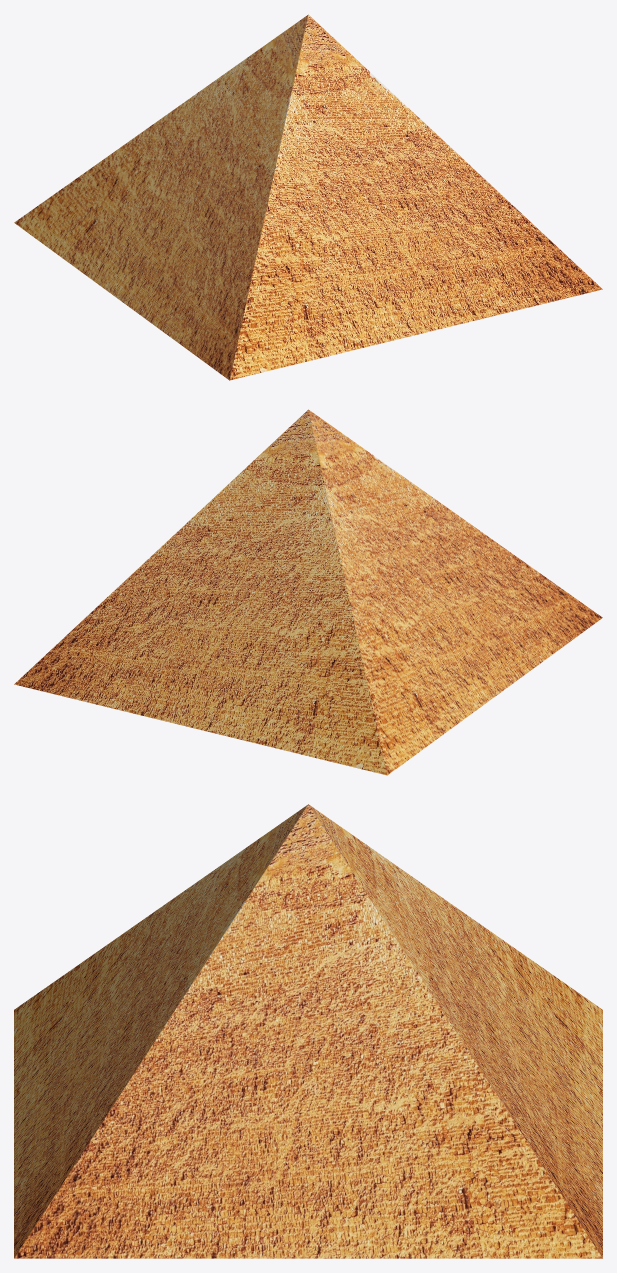
3 renders of one model, top to bottom at view 1: azimuth 30°, elevation 25°; view 2: azimuth 150°, elevation 25°; view 3: azimuth 270°, elevation 25°, orthographic. The views are drawn at different scales.
Parts seen in each view (by area): view 1: Cone; view 2: Cone; view 3: Cone.
Boxes of the visible parts, x1,y1,x2,y2 form: Cone: (14, 14, 602, 380); Cone: (14, 409, 602, 775); Cone: (14, 804, 602, 1258).
Size of the model in its own units: 13.16 by 8.14 by 13.16.
Materials: 1 (1 with a texture image).
